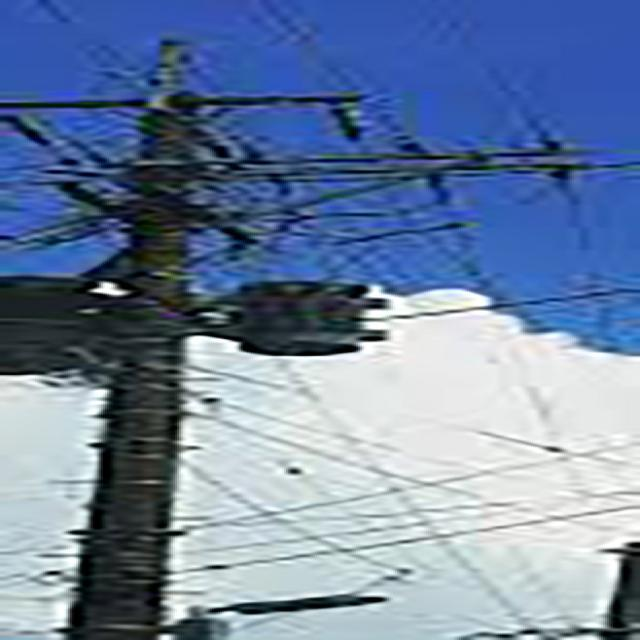pole: (0, 20, 534, 640)
